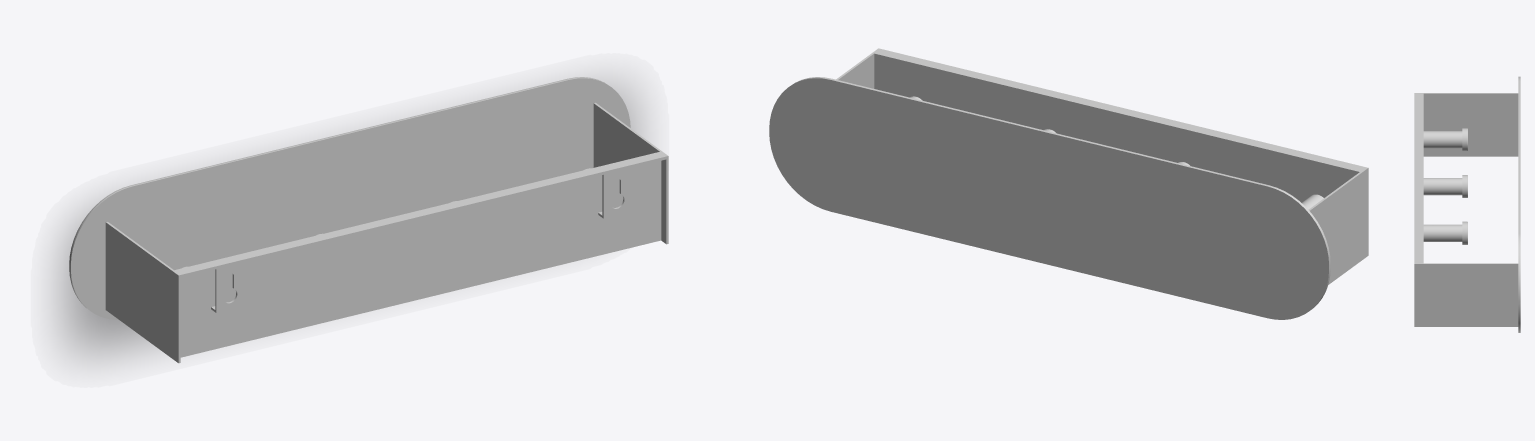
The model's file is round-hook.9be8ce8f88.ar.glb.
3 renders of one model, left to right at view 1: azimuth 30°, elevation 25°; view 2: azimuth 150°, elevation 25°; view 3: azimuth 270°, elevation 25°, orthographic. The views are drawn at different scales.
Parts seen in each view (by area): view 1: NAUO1, object 2; view 2: NAUO1; view 3: NAUO1.
Part boxes in pixels (x1=…): NAUO1: x1=69, y1=77, x2=668, y2=363; object 2: x1=58, y1=84, x2=641, y2=356; NAUO1: x1=769, y1=48, x2=1368, y2=319; NAUO1: x1=1414, y1=76, x2=1520, y2=332.
Size of the model in its own units: 0.48 by 0.17 by 0.092.
2 materials, 1 textured.
